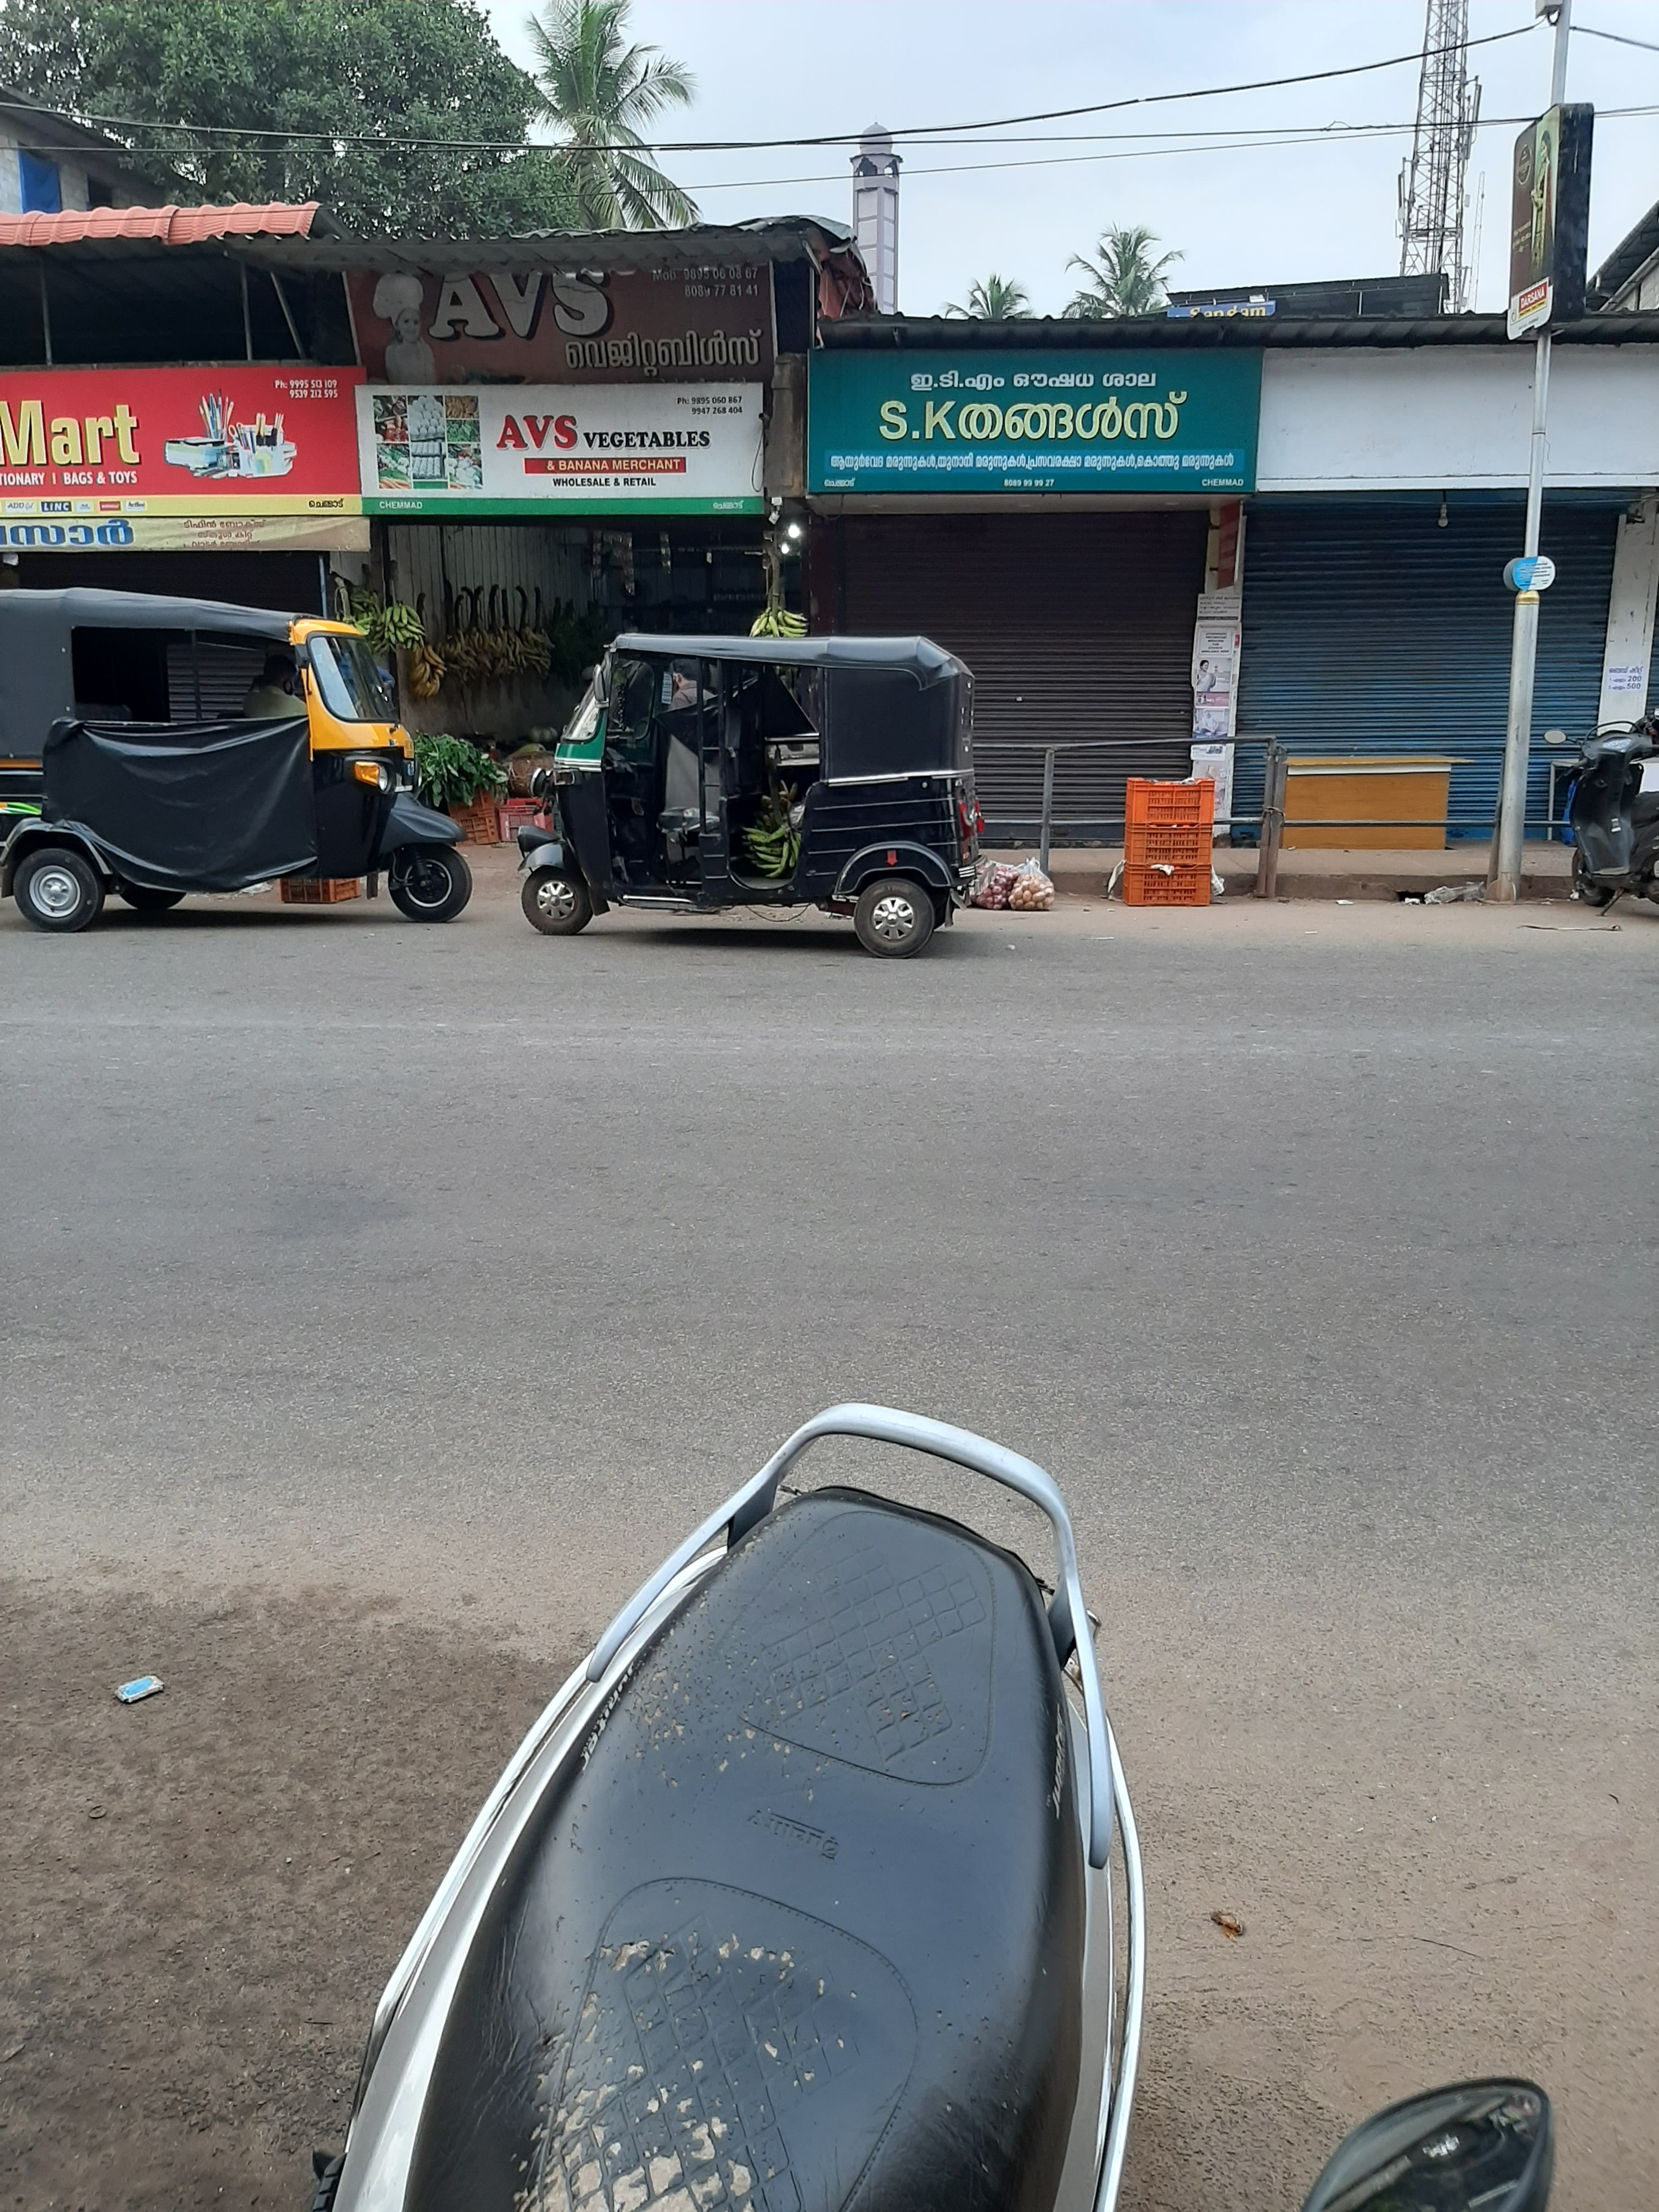auto: (0, 577, 469, 923), (507, 634, 978, 949)
two_wheelers: (1539, 714, 1659, 914)
